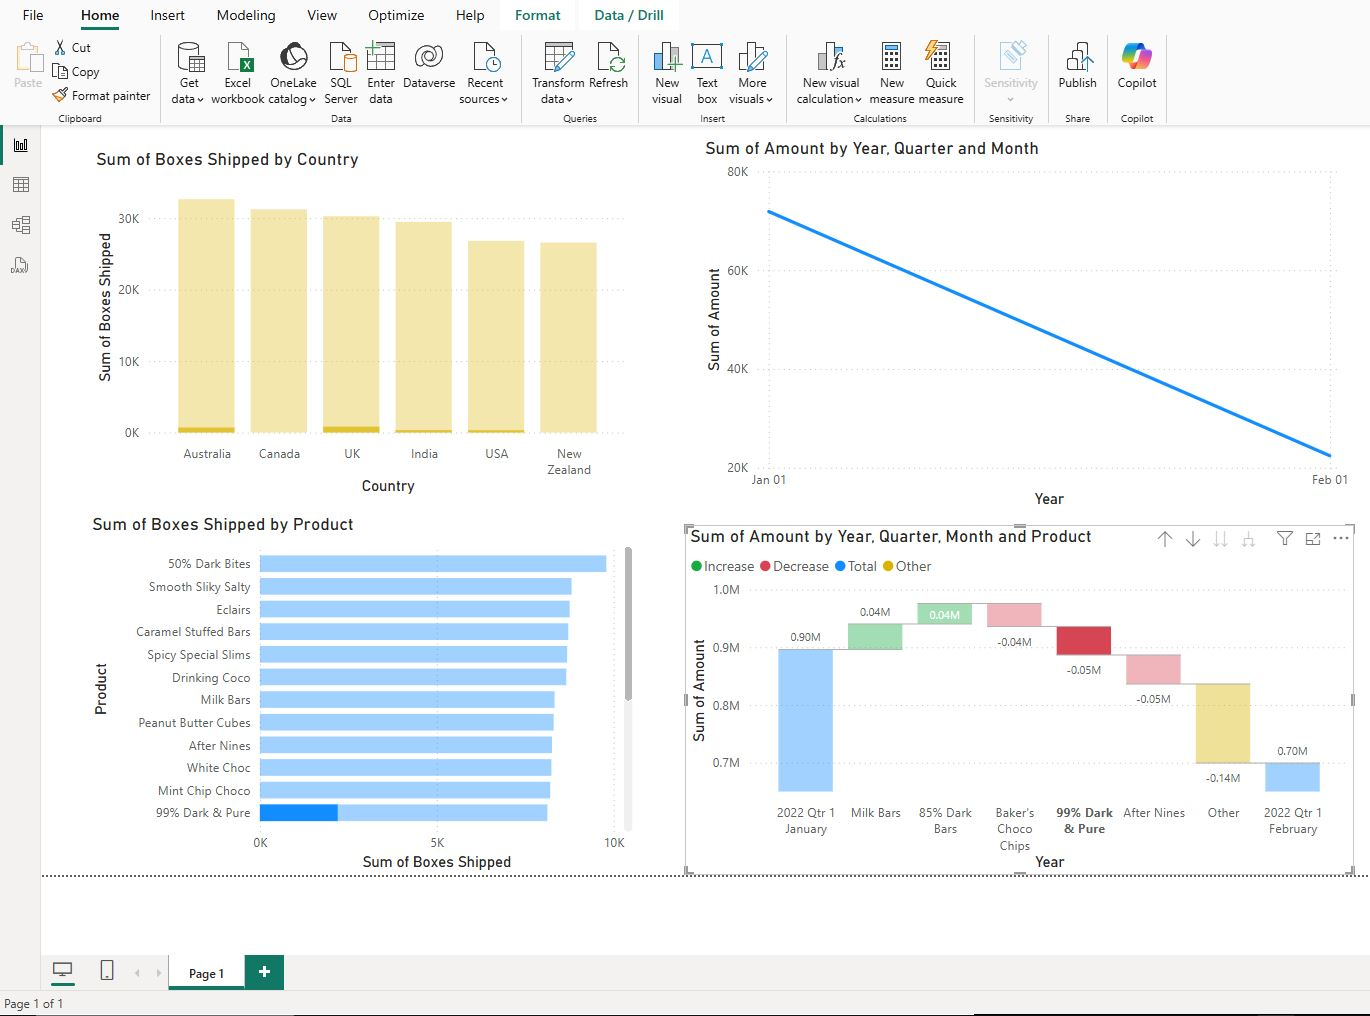

The page's visual inventory and layout, read from the dashboard file:
{"tool":"powerbi","page":{"name":"Page 1","canvas":[1280,720],"ordinal":0},"visuals":[{"type":"clusteredColumnChart","fields":{"Category":["data.Country"],"Y":["Sum(data.Boxes Shipped)"]},"box":[47.6,22.4,520,337.3],"z":0},{"type":"clusteredBarChart","fields":{"Y":["Sum(data.Boxes Shipped)"],"Category":["data.Product"]},"box":[43.7,372.2,528.7,347.9],"z":1000},{"type":"lineChart","fields":{"Y":["Sum(data.Amount)"],"Category":["data.Date.Variation.Date Hierarchy.Year","data.Date.Variation.Date Hierarchy.Quarter","data.Date.Variation.Date Hierarchy.Month","data.Date.Variation.Date Hierarchy.Day"]},"box":[632.7,11.7,627.9,360.6],"z":2000},{"type":"waterfallChart","fields":{"Category":["data.Date.Variation.Date Hierarchy.Year","data.Date.Variation.Date Hierarchy.Quarter","data.Date.Variation.Date Hierarchy.Month"],"Breakdown":["data.Product"],"Y":["Sum(data.Amount)"]},"box":[618.1,383.9,642.4,336.3],"z":2001}]}

Visuals, with their boxes on the page's 1280x720 design canvas (x1, y1, x2, y2). These are canvas units, not pixel positions in the 1370x1016 screenshot, which may show the page scaled, cropped or inside an application window:
clusteredColumnChart - data.Country x Sum(data.Boxes Shipped): bbox(48, 22, 568, 360)
clusteredBarChart - Sum(data.Boxes Shipped) x data.Product: bbox(44, 372, 572, 720)
lineChart - Sum(data.Amount) x data.Date.Variation.Date Hierarchy.Year: bbox(633, 12, 1261, 372)
waterfallChart - data.Date.Variation.Date Hierarchy.Year x data.Date.Variation.Date Hierarchy.Quarter: bbox(618, 384, 1260, 720)
